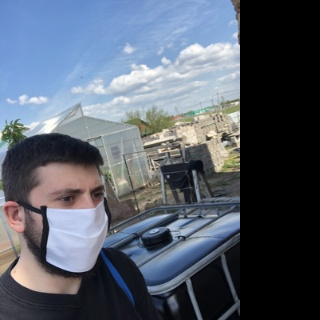with_mask: (36, 179, 112, 276)
